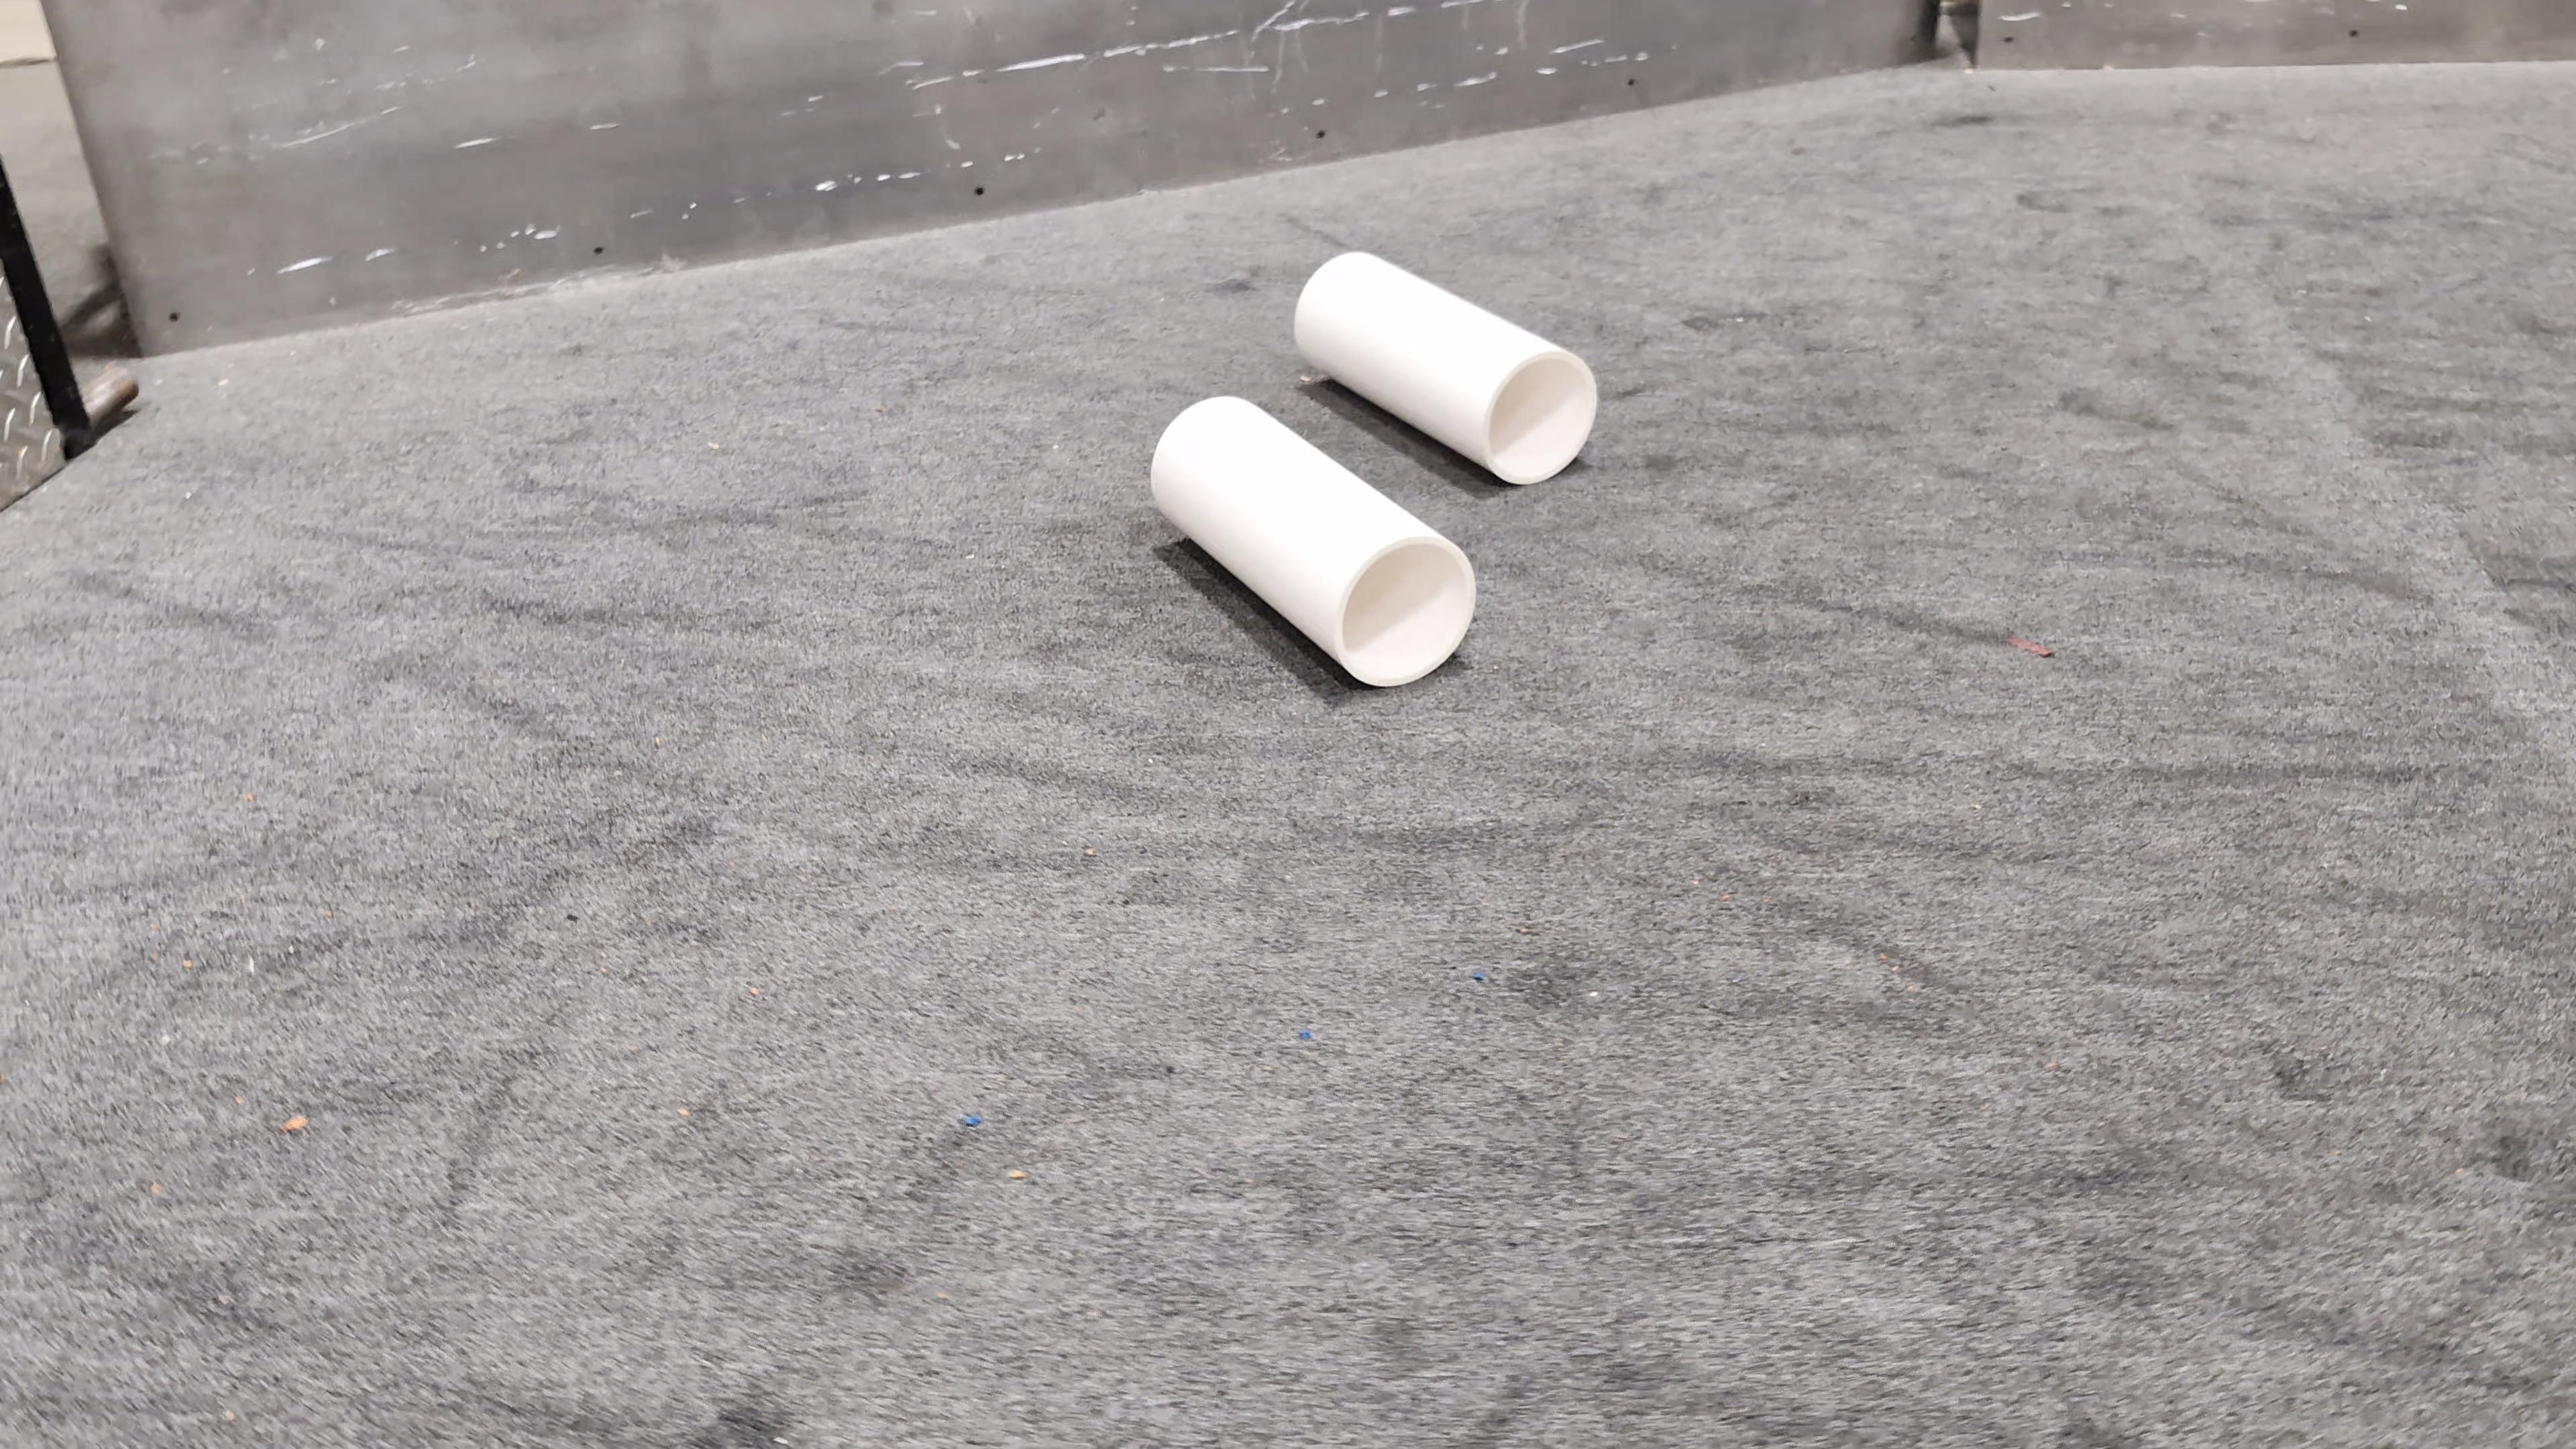coral: (1148, 387, 1481, 686), (1297, 253, 1596, 485)
